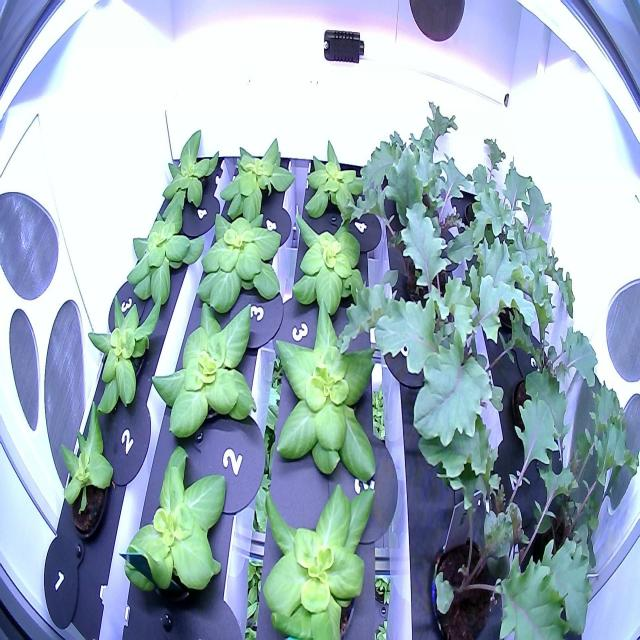young: (246, 295, 391, 492), (114, 439, 244, 620), (250, 473, 384, 639), (147, 296, 270, 444), (287, 202, 382, 333), (186, 208, 289, 326), (86, 280, 170, 418), (121, 192, 206, 308), (55, 396, 119, 543), (214, 124, 298, 231), (156, 120, 226, 227), (301, 128, 373, 231)
